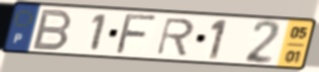1: (208, 18, 230, 62), (89, 13, 109, 53)
2: (241, 18, 282, 67)
B: (29, 8, 75, 52)
F: (113, 13, 162, 56)
R: (154, 17, 196, 58)
